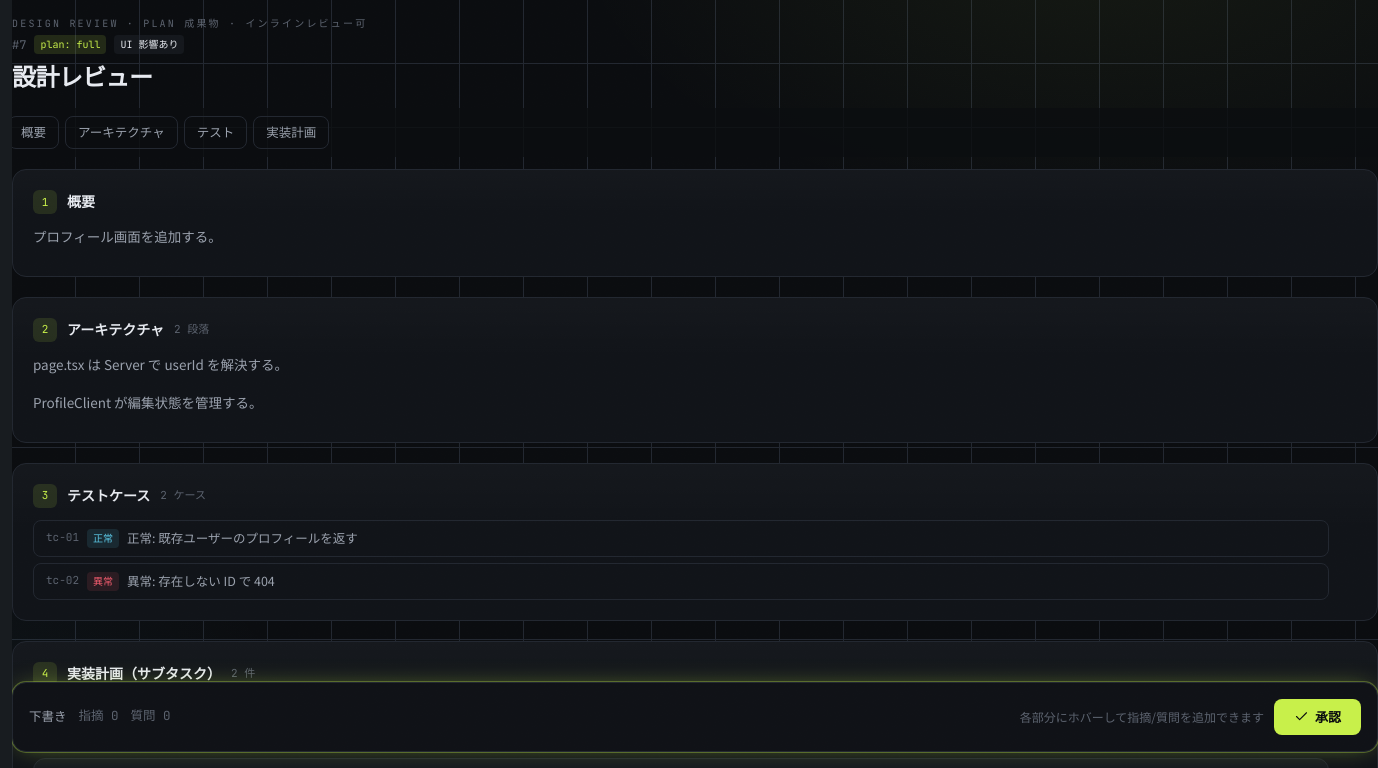
Test: DesignReviewClient › 提出失敗時はエラーメッセージを表示する
Click the button "承認": (1318, 717) left=1274, top=700, right=1361, bottom=735
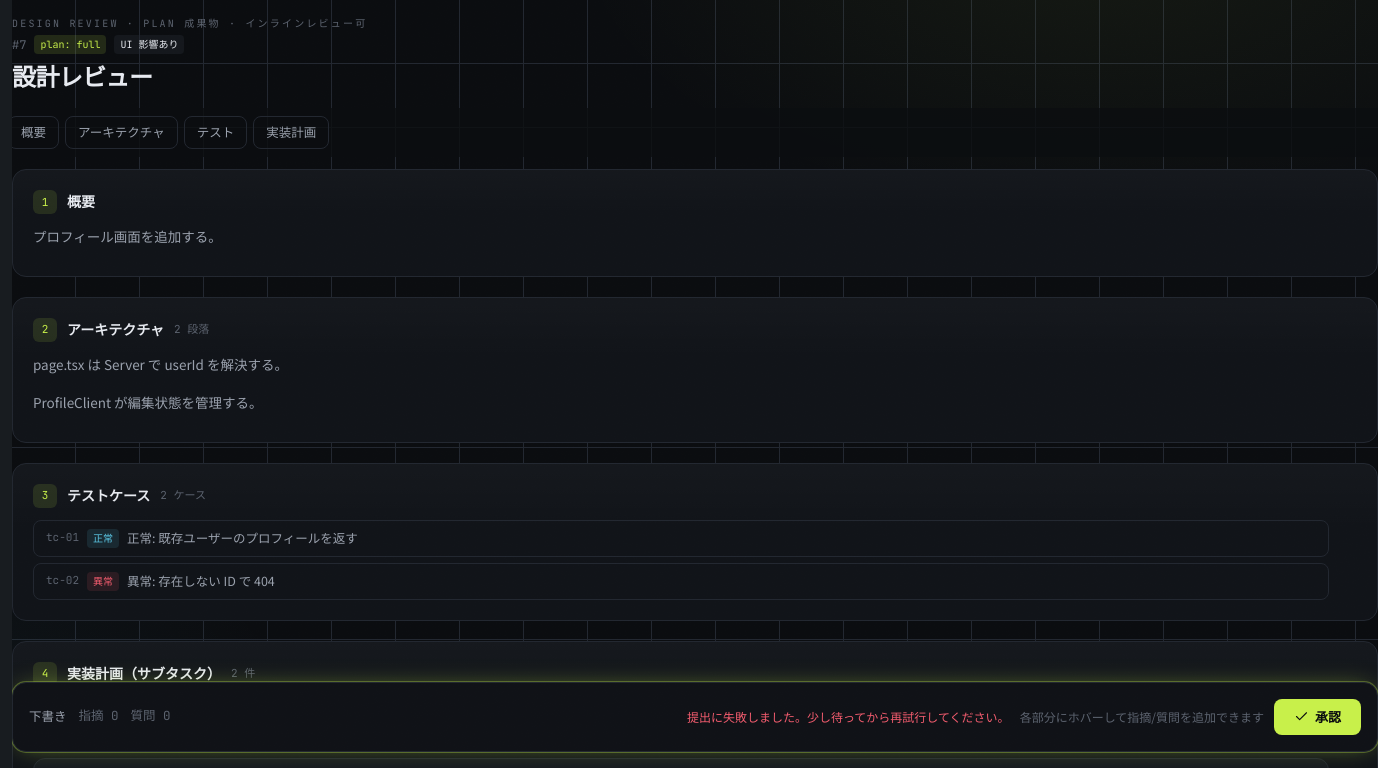
expect the text "提出に失敗しました。少し待ってから再試行してください。" is shown: met, box left=687, top=708, right=1010, bottom=726
